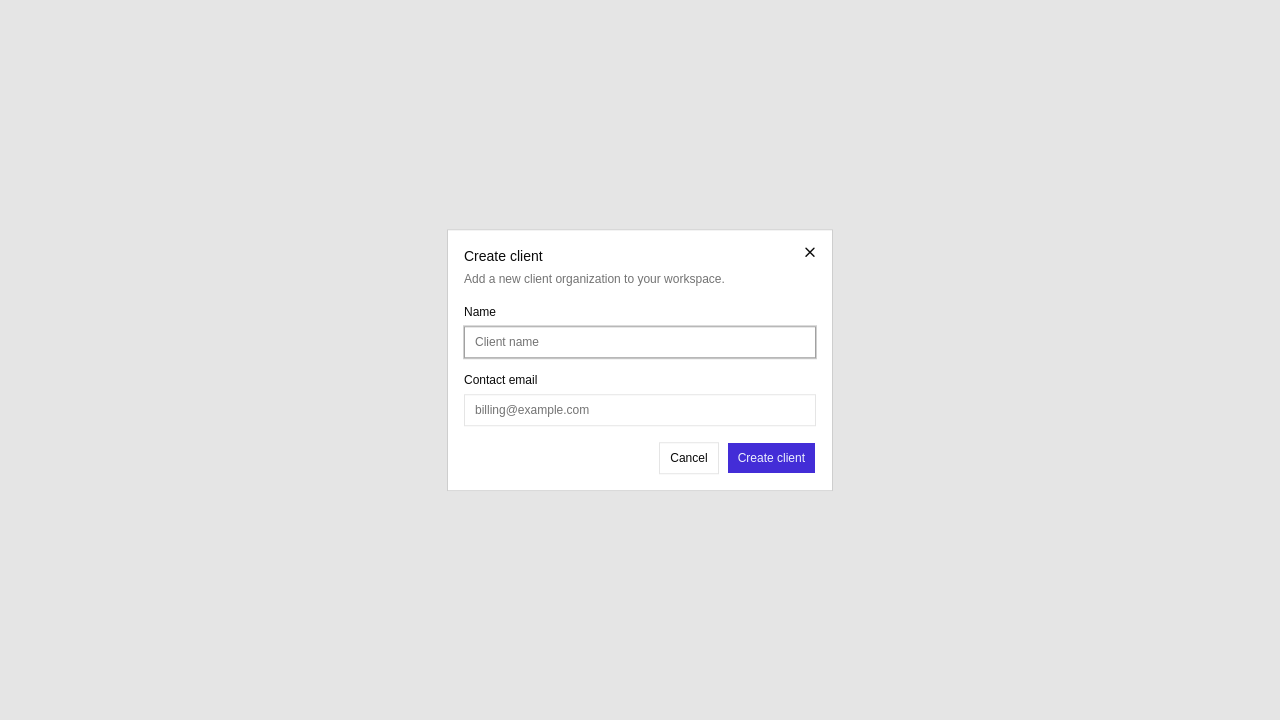
Scenario: ClientFormDialog › rejects empty name before submit
The image size is (1280, 720).
Click the button "Create client".
click(771, 458)  # box [727,442,816,474]
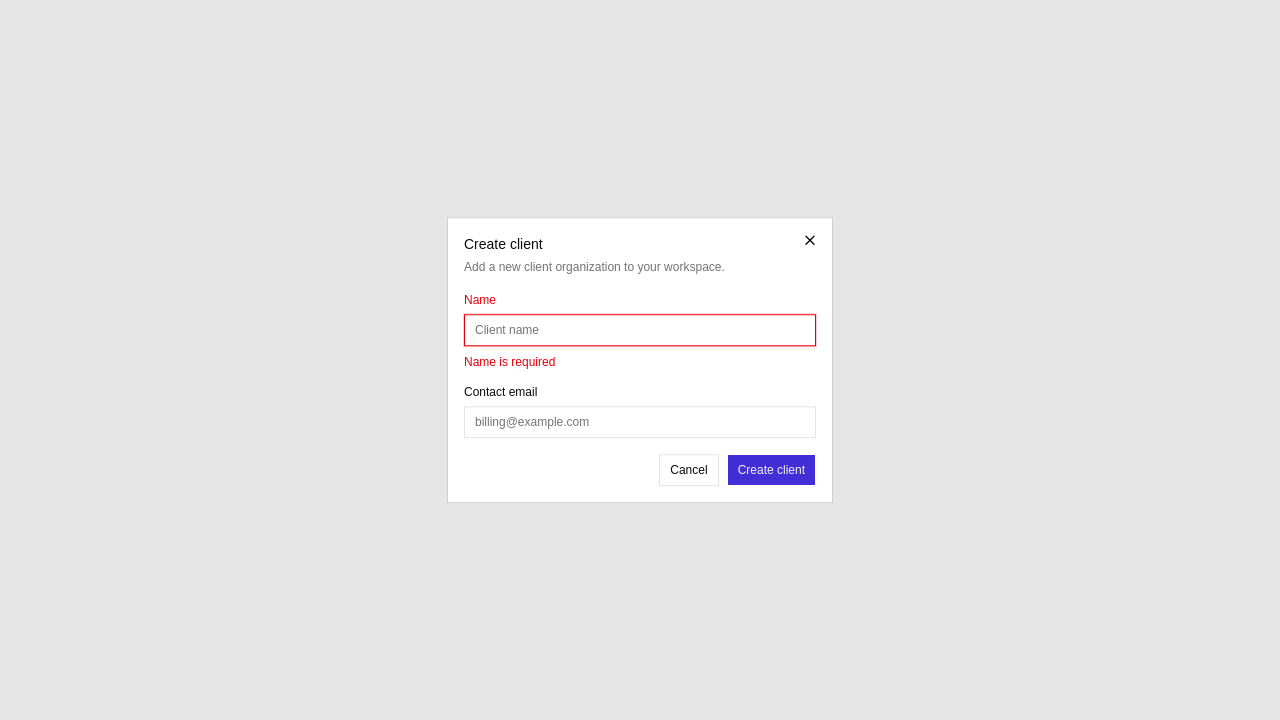
Expected: the text "Name is required" is shown, [464,355,555,369]
